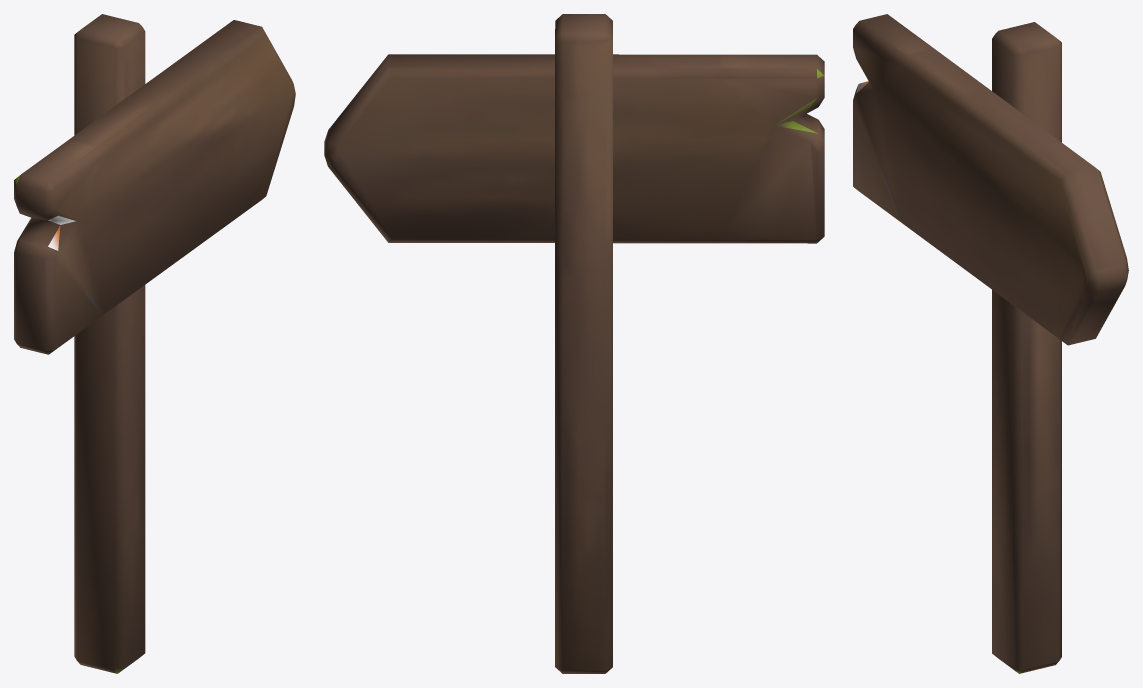
File: cartel.fbx
The picture shows the model from 3 angles, left to right: view 1: azimuth 30°, elevation 25°; view 2: azimuth 150°, elevation 25°; view 3: azimuth 270°, elevation 25°; orthographic projection. The views are drawn at different scales.
Parts seen in each view (by area): view 1: sm_cartel; view 2: sm_cartel; view 3: sm_cartel.
Boxes of the visible parts, box(x1,y1,x2,y2) form: sm_cartel: box(14, 14, 295, 673); sm_cartel: box(324, 14, 824, 673); sm_cartel: box(853, 14, 1128, 673).
Bounding box in the file's own units: 83.84 × 132 × 52.49.
Materials: 1 (1 with a texture image).
